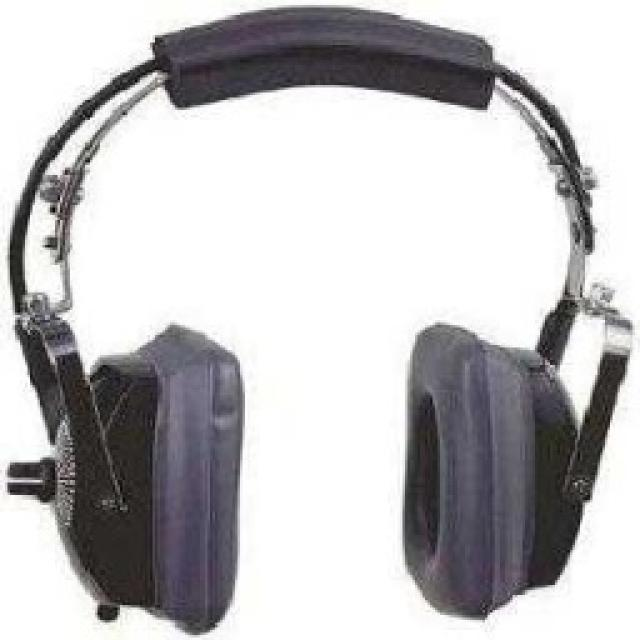kulaklik: (6, 5, 640, 640)
